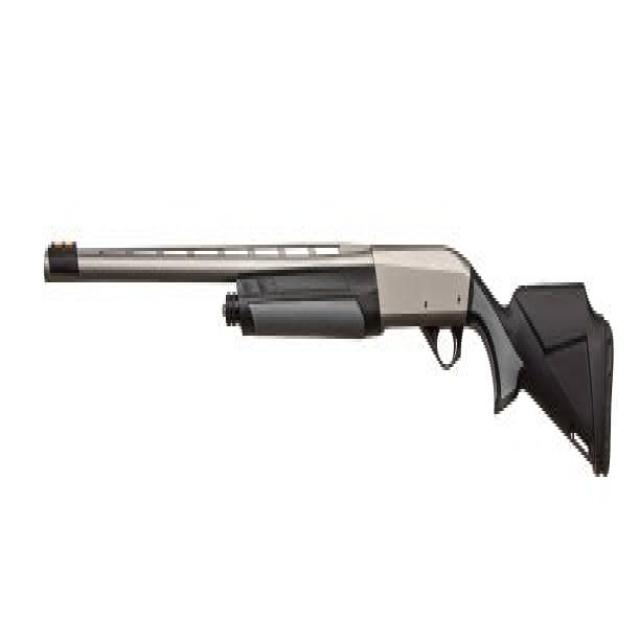rifle: (38, 208, 618, 487)
